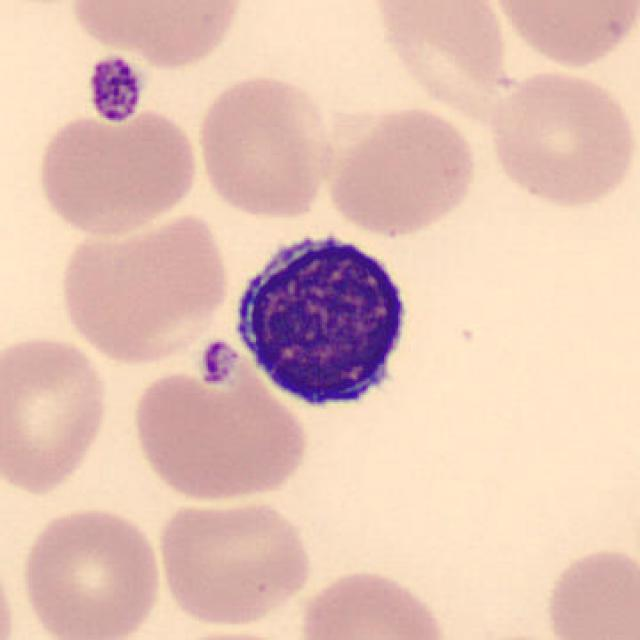Lymphocyte: (223, 219, 422, 423)
Platelets: (85, 53, 146, 127), (192, 336, 242, 392)
RBC: (126, 344, 313, 506), (54, 206, 236, 367), (151, 490, 317, 630), (482, 65, 636, 212), (32, 106, 201, 238), (192, 71, 338, 222), (322, 102, 482, 238), (15, 500, 165, 640), (0, 330, 114, 499), (364, 0, 518, 115), (66, 0, 249, 71), (295, 564, 453, 640), (486, 0, 638, 71), (539, 541, 638, 640), (149, 626, 311, 640), (0, 543, 20, 640)
